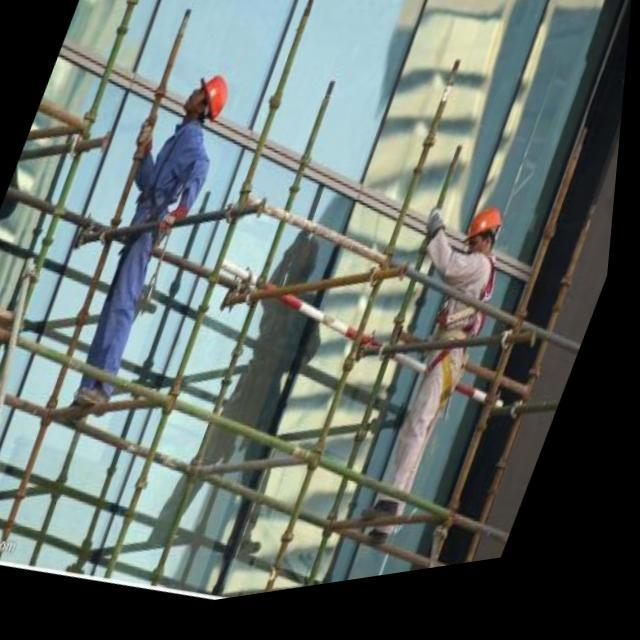belt: (389, 280, 525, 450)
